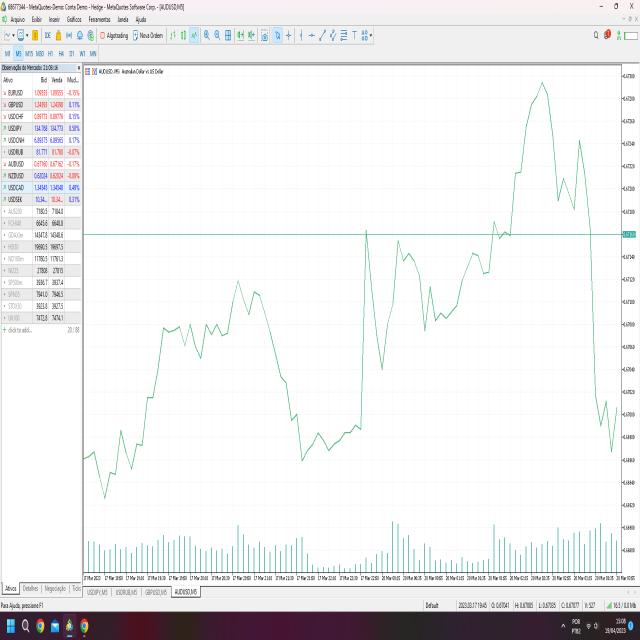topo_duplo: (221, 267, 276, 369)
